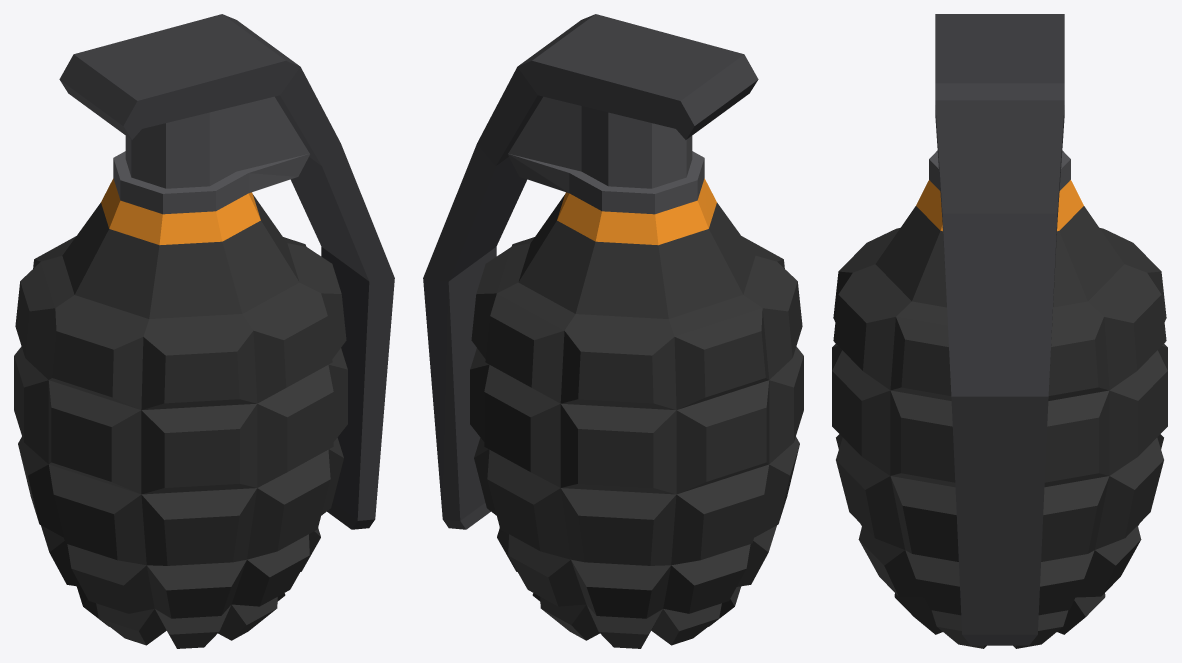
Rendered from grenade.obj.
3 renders of one model, left to right at view 1: azimuth 30°, elevation 25°; view 2: azimuth 150°, elevation 25°; view 3: azimuth 270°, elevation 25°, orthographic.
Parts seen in each view (by area): view 1: grenade.obj; view 2: grenade.obj; view 3: grenade.obj.
Part boxes in pixels (x1=…): grenade.obj: x1=14, y1=14, x2=394, y2=648; grenade.obj: x1=423, y1=14, x2=803, y2=648; grenade.obj: x1=832, y1=14, x2=1167, y2=648.
Size of the model in its own units: 0.1304 by 0.21 by 0.1121.
